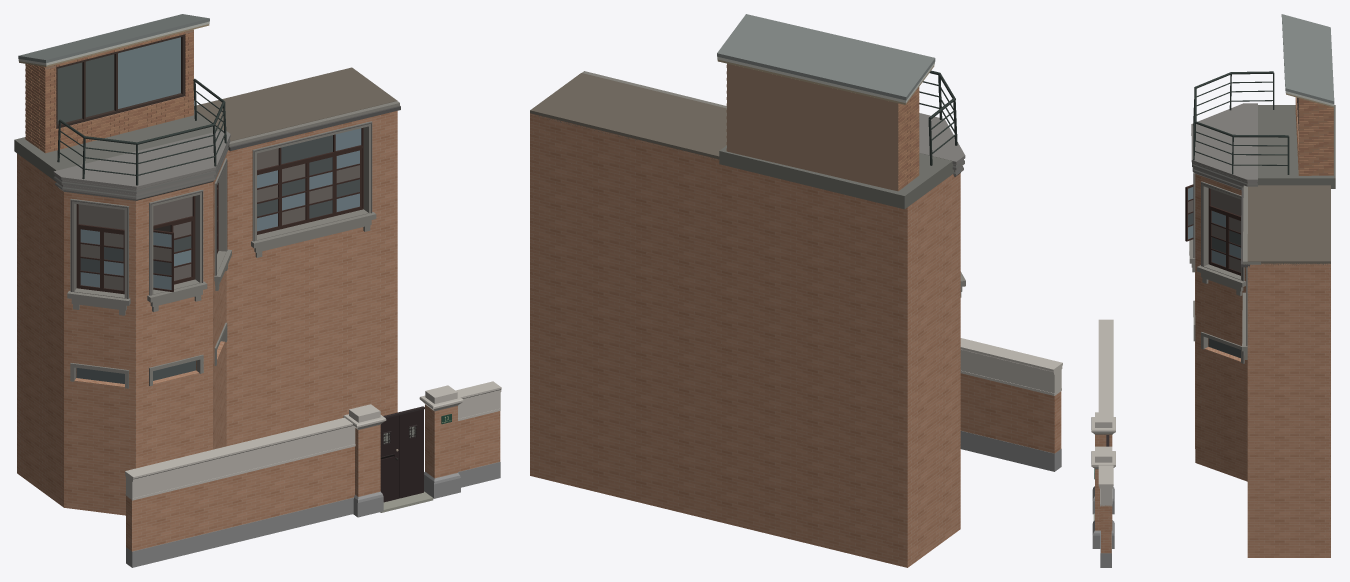
File: jingan-guanghuali-no13-courtyard-front-web.glb
The picture shows the model from 3 angles, left to right: view 1: azimuth 30°, elevation 25°; view 2: azimuth 150°, elevation 25°; view 3: azimuth 270°, elevation 25°; orthographic projection. The views are drawn at different scales.
Parts seen in each view (by area): view 1: 光华里13号院门、三面凸窗与露台; view 2: 光华里13号院门、三面凸窗与露台; view 3: 光华里13号院门、三面凸窗与露台.
Part boxes in pixels (box(x1,y1,x2,y2)): 光华里13号院门、三面凸窗与露台: box(14, 14, 501, 567); 光华里13号院门、三面凸窗与露台: box(530, 14, 1062, 567); 光华里13号院门、三面凸窗与露台: box(1091, 14, 1335, 567).
Bounding box in the file's own units: 8.81 × 9.93 × 5.54.
37 materials, 1 textured.
